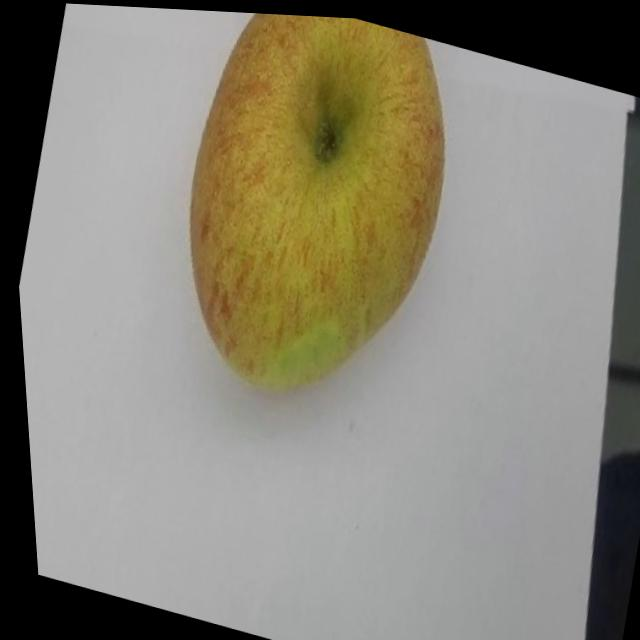Apple: (139, 6, 486, 428)
